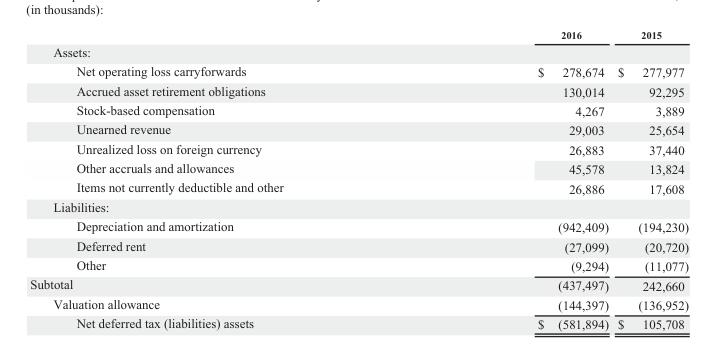table: (29, 28, 688, 331)
table column: (29, 28, 409, 331), (409, 28, 612, 331), (612, 28, 688, 331)
table column header: (29, 28, 688, 42)
table projected row header: (29, 42, 688, 61), (29, 197, 688, 216)
table row: (29, 61, 688, 81), (29, 119, 688, 139), (29, 177, 688, 197), (29, 216, 688, 236), (29, 274, 688, 294), (29, 42, 688, 61), (29, 81, 688, 100), (29, 100, 688, 119), (29, 139, 688, 158), (29, 158, 688, 177), (29, 197, 688, 216), (29, 236, 688, 255), (29, 255, 688, 274), (29, 294, 688, 313), (29, 313, 688, 331), (29, 28, 688, 42)
